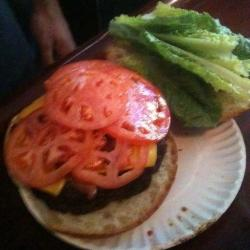burger: (13, 66, 179, 222)
salad: (109, 9, 248, 123)
